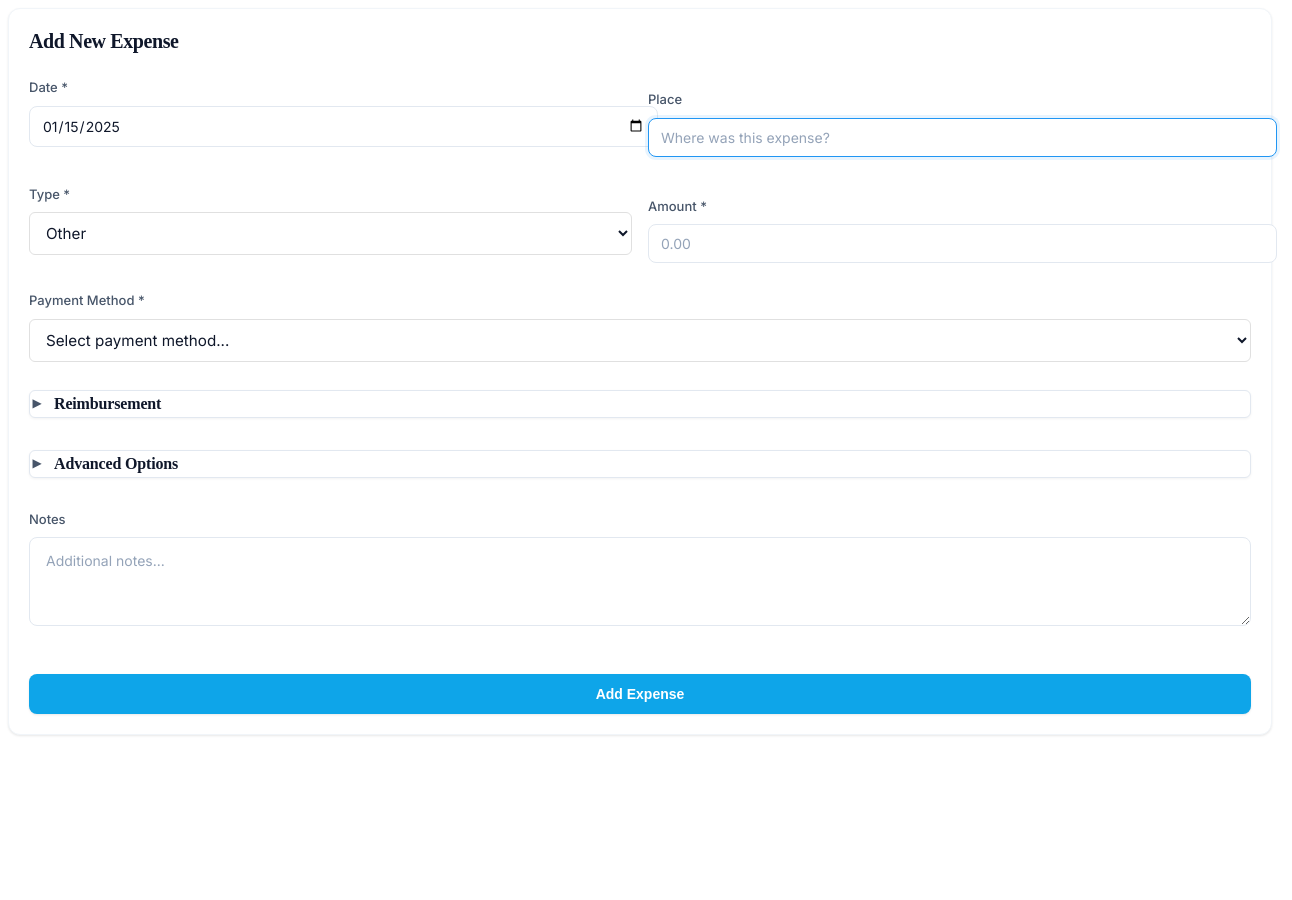
Test: ExpenseForm - Future Months Feature › should render future months select
The width and height of the screenshot is (1292, 900).
Check: the dropdown labelled "Type *" is shown, box [29,212,632,255]
# Expand Advanced Options section first
Click the button "▶ Advanced Options" at (105, 463), box [32,454,178,472]
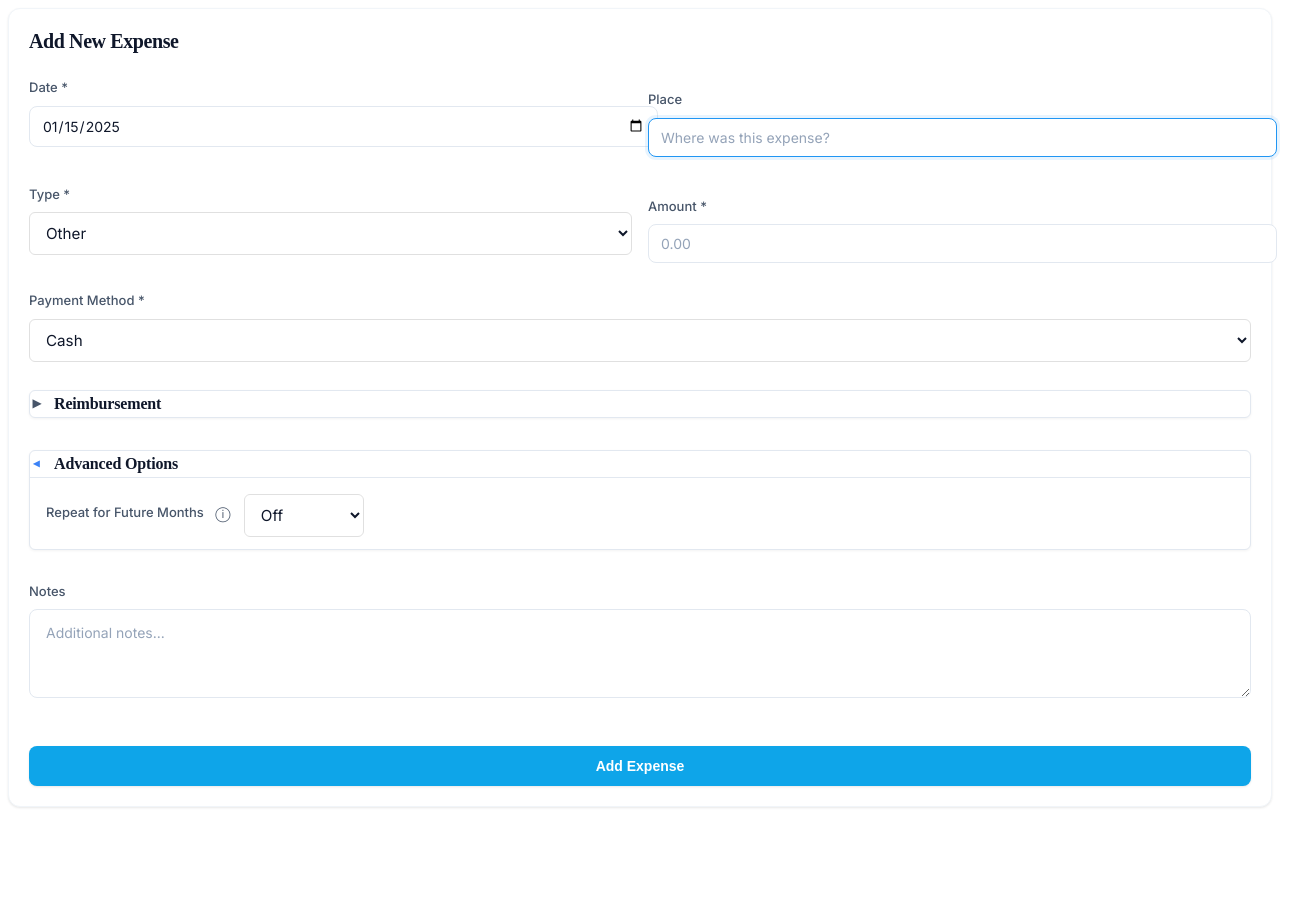
Check: the button "▼ Advanced Options" is expanded, box [30,454,178,472]
Check: the dropdown labelled "Repeat for Future Months ⓘ" shows "Off", box [244,494,364,536]
